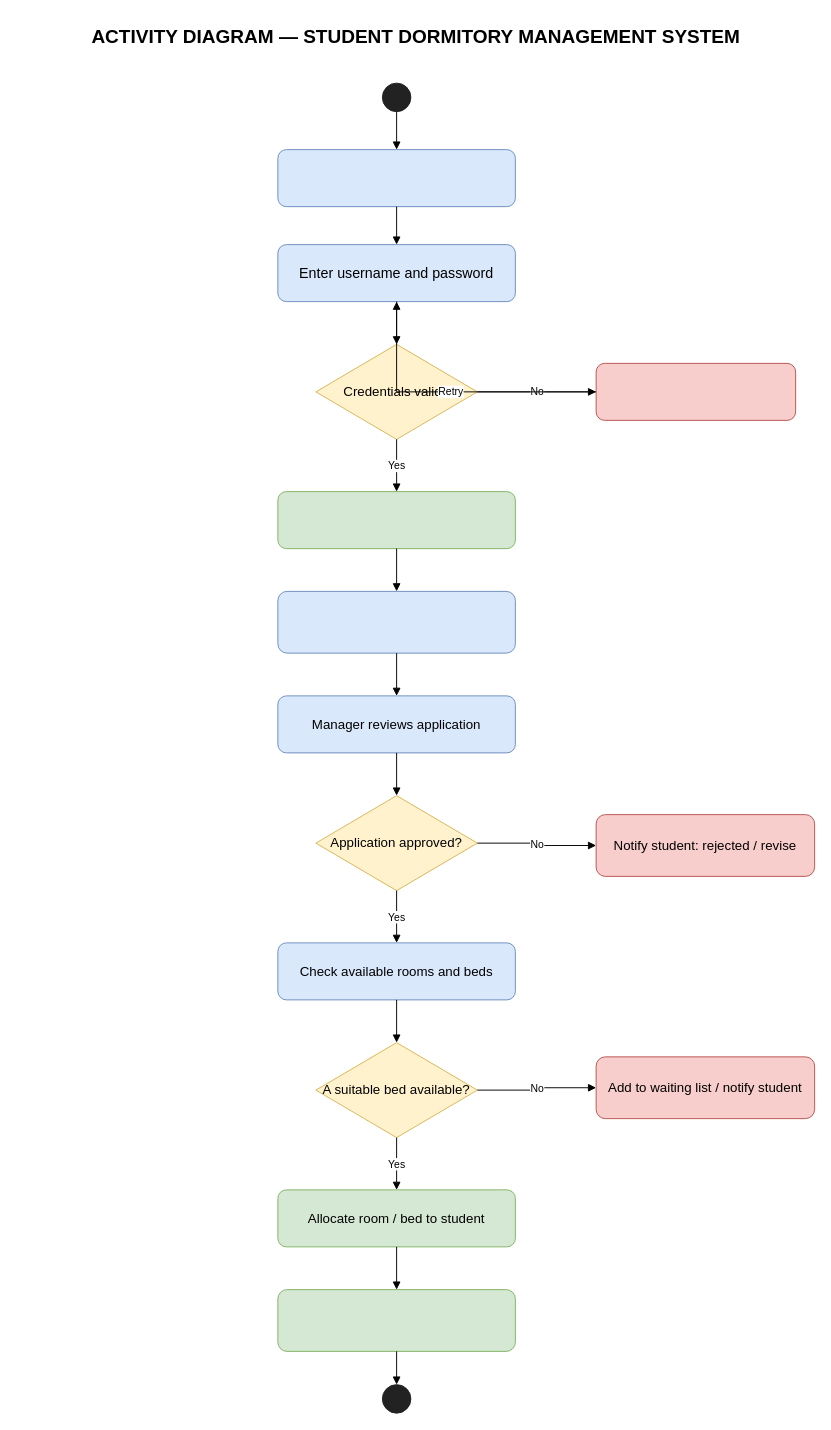
Image size: 831x1430. Some labels were removed from this diagram. Each missing label, with the centre of its shape:
"Open dashboard based on role" goes at pixel 396 520.
"Open system / Login" goes at pixel 396 178.
"Save allocation in database and notify student" goes at pixel 396 1320.
"Show error message" goes at pixel 695 391.
"Student submits dormitory application" goes at pixel 396 621.
